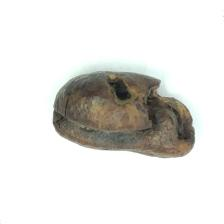NG: (52, 70, 195, 159)
